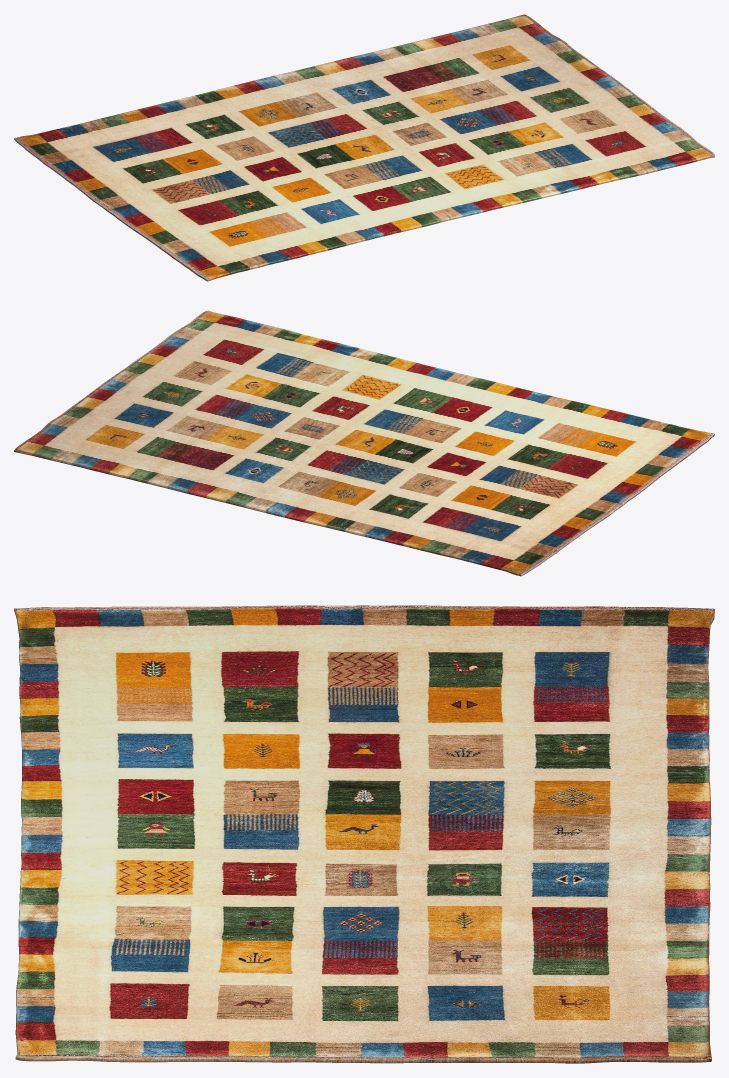
The model's file is rug5.glb.
3 renders of one model, top to bottom at view 1: azimuth 30°, elevation 25°; view 2: azimuth 150°, elevation 25°; view 3: azimuth 270°, elevation 25°, orthographic. The views are drawn at different scales.
Parts seen in each view (by area): view 1: Persian Qashqai Rug 245 x 154 cm_0; view 2: Persian Qashqai Rug 245 x 154 cm_0; view 3: Persian Qashqai Rug 245 x 154 cm_0.
Boxes of the visible parts, x1,y1,x2,y2 form: Persian Qashqai Rug 245 x 154 cm_0: [14, 14, 714, 281]; Persian Qashqai Rug 245 x 154 cm_0: [14, 310, 714, 576]; Persian Qashqai Rug 245 x 154 cm_0: [14, 605, 714, 1063].
Size of the model in its own units: 0.9921 by 0.004 by 0.6451.
Materials: 1 (1 with a texture image).
